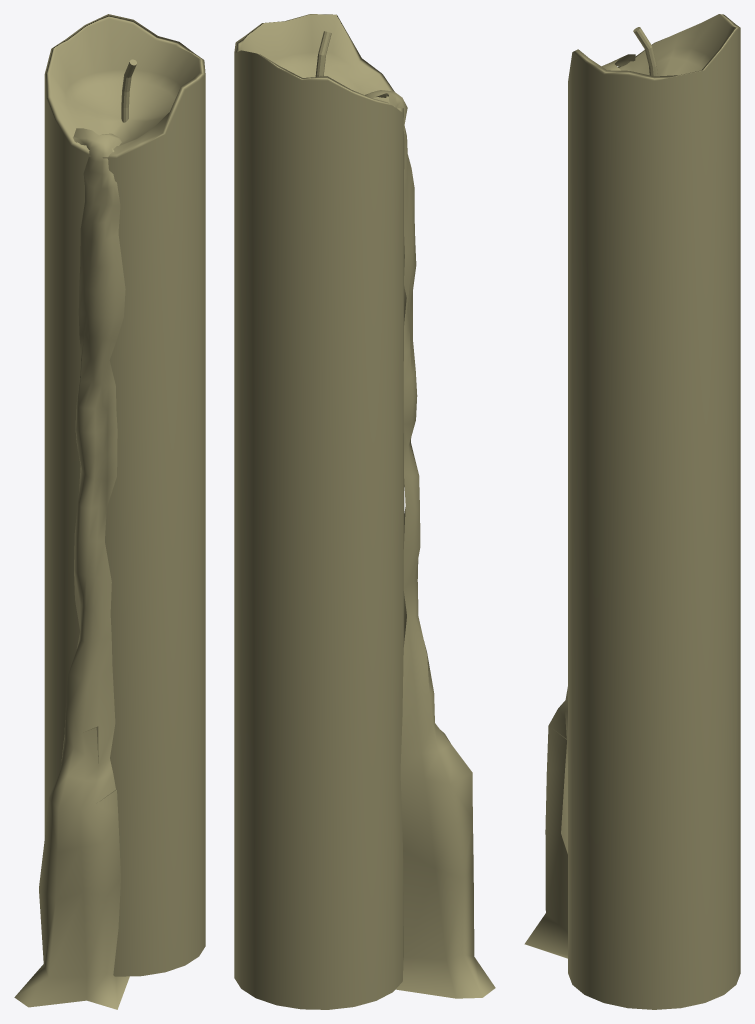
Rendered from candle_2.fbx.
3 renders of one model, left to right at view 1: azimuth 30°, elevation 25°; view 2: azimuth 150°, elevation 25°; view 3: azimuth 270°, elevation 25°, orthographic. The views are drawn at different scales.
Visible parts, largest first — view 1: polySurface54; view 2: polySurface54; view 3: polySurface54.
Part boxes in pixels (x1=…): polySurface54: x1=14, y1=14, x2=205, y2=1009; polySurface54: x1=234, y1=14, x2=495, y2=1009; polySurface54: x1=524, y1=14, x2=740, y2=1009.
Bounding box in the file's own units: 0.1343 × 0.5708 × 0.1163.
